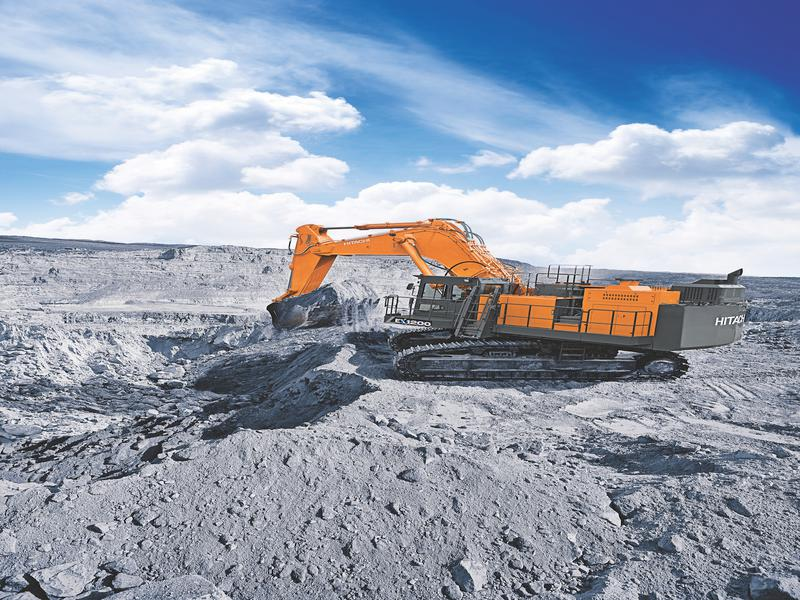shovel: (263, 213, 749, 389)
